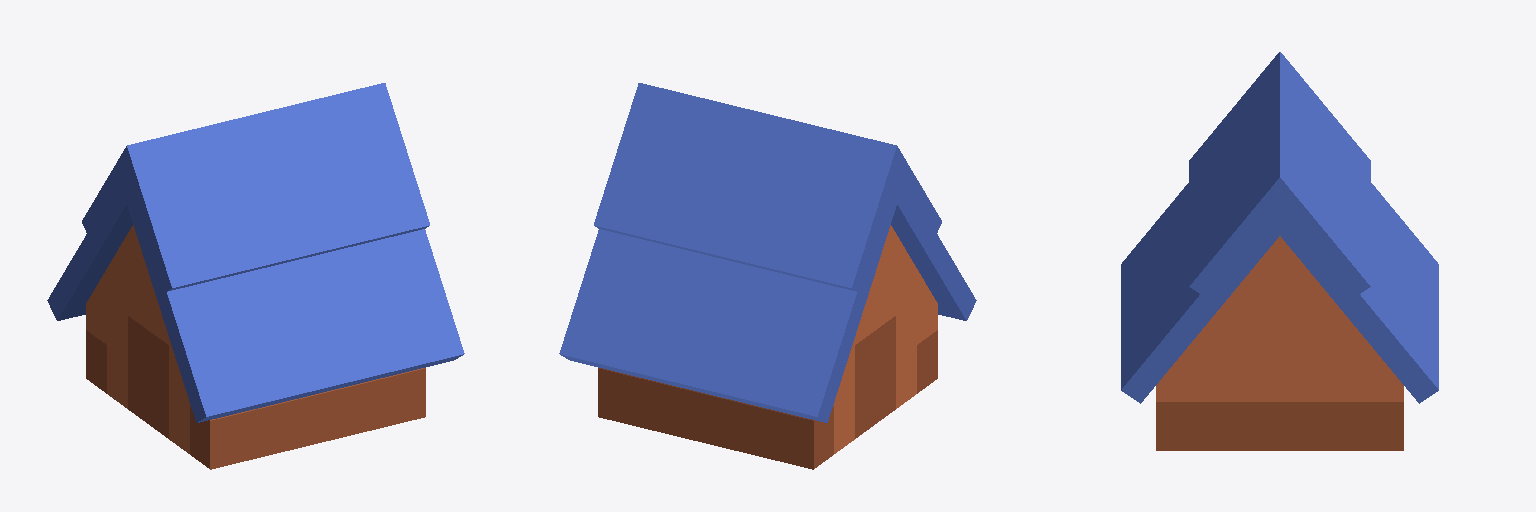
File: unit_house.obj
The picture shows the model from 3 angles: view 1: azimuth 30°, elevation 25°; view 2: azimuth 150°, elevation 25°; view 3: azimuth 270°, elevation 25°; orthographic projection.
Parts seen in each view (by area): view 1: unit_house; view 2: unit_house; view 3: unit_house.
Boxes of the visible parts, <box> form: unit_house: <box>47,83,464,469</box>; unit_house: <box>559,83,976,469</box>; unit_house: <box>1121,52,1438,450</box>.
Size of the model in its own units: 0.36 by 0.3781 by 0.384.